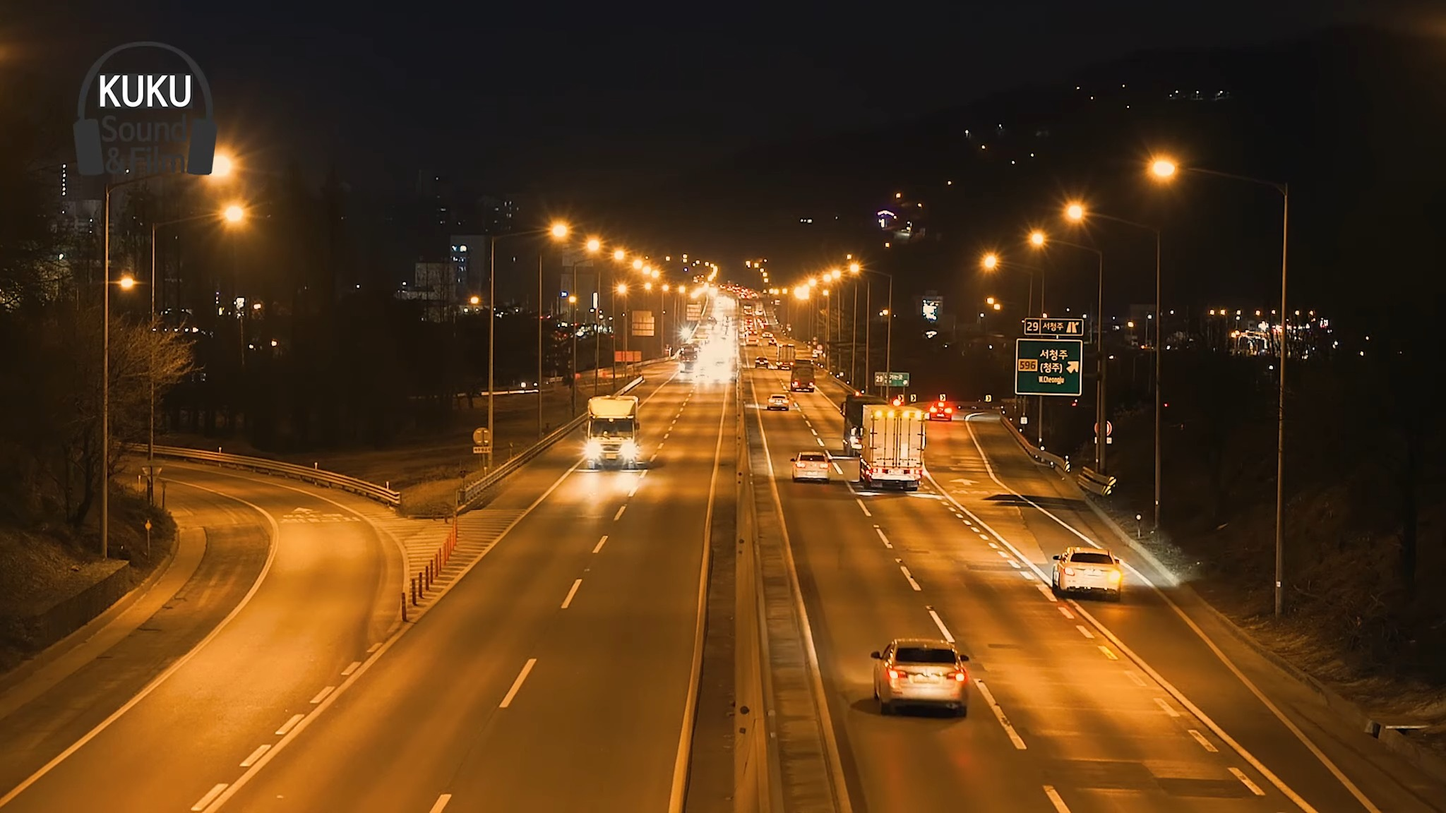car: (871, 634, 977, 720), (1049, 540, 1126, 601)
truck: (855, 396, 929, 498), (579, 389, 646, 473)
